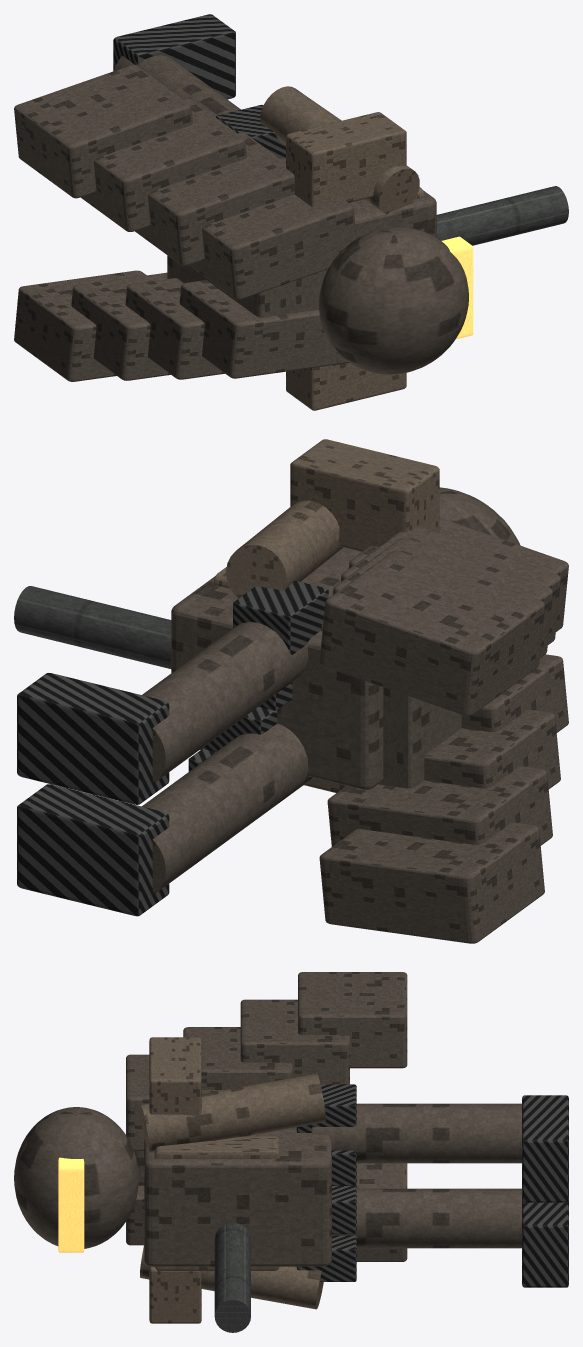
Rendered from d-u07-dominion-infiltrator-lod0.glb.
The picture shows the model from 3 angles, top to bottom: view 1: azimuth 30°, elevation 25°; view 2: azimuth 150°, elevation 25°; view 3: azimuth 270°, elevation 25°; orthographic projection. The views are drawn at different scales.
Parts seen in each view (by area): view 1: soldier_0_helmet, cloak_1_3, cloak_1_0, cloak_1_2, cloak_1_1, cloak_-1_0, soldier_0_shoulder_1, cloak_-1_3, soldier_0_boot_1, cloak_-1_2, cloak_-1_1, soldier_0_rifle (+7 smaller); view 2: cloak_1_3, cloak_-1_3, soldier_0_boot_1, soldier_0_boot_-1, soldier_0_torso, soldier_0_leg_-1, soldier_0_leg_1, cloak_-1_2, soldier_0_shoulder_1, soldier_0_rifle, cloak_-1_1, soldier_0_arm_1 (+8 smaller); view 3: soldier_0_torso, soldier_0_helmet, soldier_0_leg_1, soldier_0_leg_-1, cloak_1_3, soldier_0_arm_1, cloak_1_2, soldier_0_boot_1, soldier_0_shoulder_1, soldier_0_boot_-1, soldier_0_rifle, cloak_1_1 (+11 smaller).
Boxes of the visible parts, left/top/right/bottom form: soldier_0_helmet: left=318, top=227, right=468, bottom=374; cloak_1_3: left=14, top=65, right=192, bottom=198; cloak_1_0: left=189, top=194, right=356, bottom=299; cloak_1_2: left=81, top=98, right=246, bottom=231; cloak_1_1: left=135, top=132, right=294, bottom=265; cloak_-1_0: left=179, top=280, right=349, bottom=378; soldier_0_shoulder_1: left=286, top=112, right=406, bottom=206; cloak_-1_3: left=14, top=270, right=146, bottom=381; soldier_0_boot_1: left=113, top=14, right=235, bottom=99; cloak_-1_2: left=71, top=272, right=170, bottom=380; cloak_-1_1: left=125, top=278, right=224, bottom=379; soldier_0_rifle: left=436, top=186, right=568, bottom=245; cloak_1_3: left=319, top=550, right=544, bottom=715; cloak_-1_3: left=319, top=822, right=544, bottom=943; soldier_0_boot_1: left=17, top=673, right=169, bottom=804; soldier_0_boot_-1: left=17, top=784, right=169, bottom=916; soldier_0_torso: left=171, top=547, right=383, bottom=789; soldier_0_leg_-1: left=142, top=723, right=312, bottom=894; soldier_0_leg_1: left=142, top=622, right=308, bottom=783; cloak_-1_2: left=327, top=766, right=552, bottom=846; soldier_0_shoulder_1: left=290, top=439, right=439, bottom=551; soldier_0_rifle: left=14, top=586, right=171, bottom=668; cloak_-1_1: left=339, top=709, right=560, bottom=790; soldier_0_arm_1: left=226, top=500, right=343, bottom=598; soldier_0_torso: left=144, top=1127, right=331, bottom=1266; soldier_0_helmet: left=14, top=1107, right=138, bottom=1248; soldier_0_leg_1: left=312, top=1103, right=521, bottom=1163; soldier_0_leg_-1: left=332, top=1188, right=521, bottom=1248; cloak_1_3: left=298, top=972, right=407, bottom=1068; soldier_0_arm_1: left=140, top=1073, right=325, bottom=1151; cloak_1_2: left=240, top=999, right=349, bottom=1084; soldier_0_boot_1: left=522, top=1095, right=568, bottom=1202; soldier_0_shoulder_1: left=149, top=1037, right=201, bottom=1115; soldier_0_boot_-1: left=522, top=1199, right=568, bottom=1287; soldier_0_rifle: left=214, top=1223, right=250, bottom=1332; cloak_1_1: left=183, top=1027, right=292, bottom=1089.
Size of what is drawn, in the model's own units: 1.91 by 1.05 by 2.13.
Materials: 5 (5 with a texture image).
